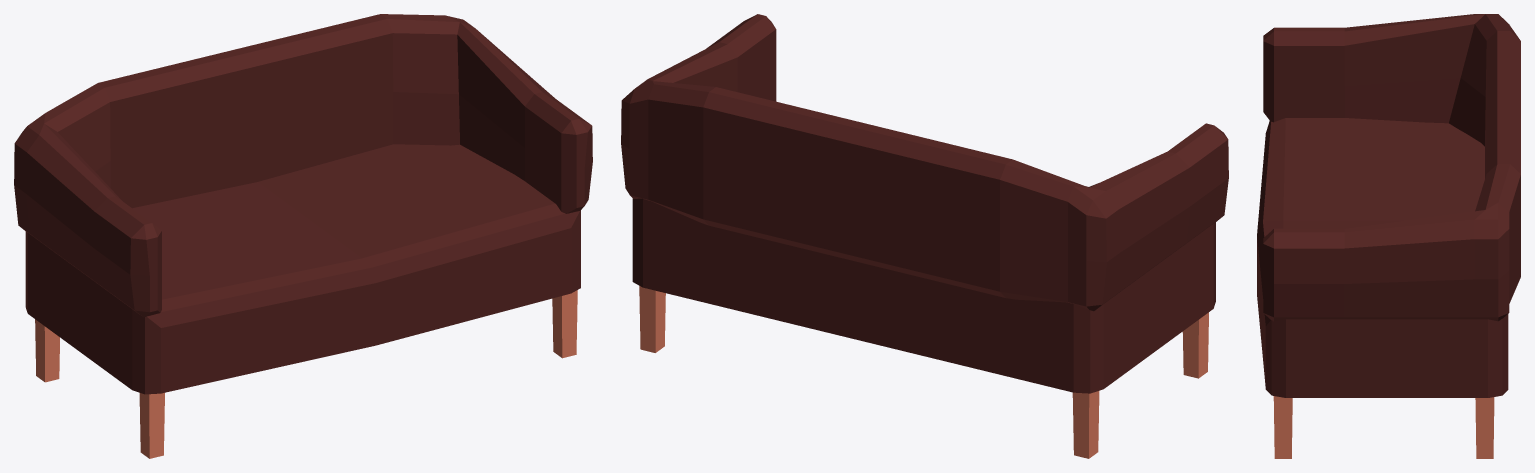
The model's file is Cigarroom_Sofa.fbx.
The picture shows the model from 3 angles, left to right: view 1: azimuth 30°, elevation 25°; view 2: azimuth 150°, elevation 25°; view 3: azimuth 270°, elevation 25°; orthographic projection. The views are drawn at different scales.
Visible parts, largest first — view 1: Cube.003; view 2: Cube.003; view 3: Cube.003.
Boxes of the visible parts, x1,y1,x2,y2 form: Cube.003: (14,14,592,458); Cube.003: (621,14,1228,458); Cube.003: (1257,14,1520,458).
Bounding box in the file's own units: 549 × 306 × 281.
